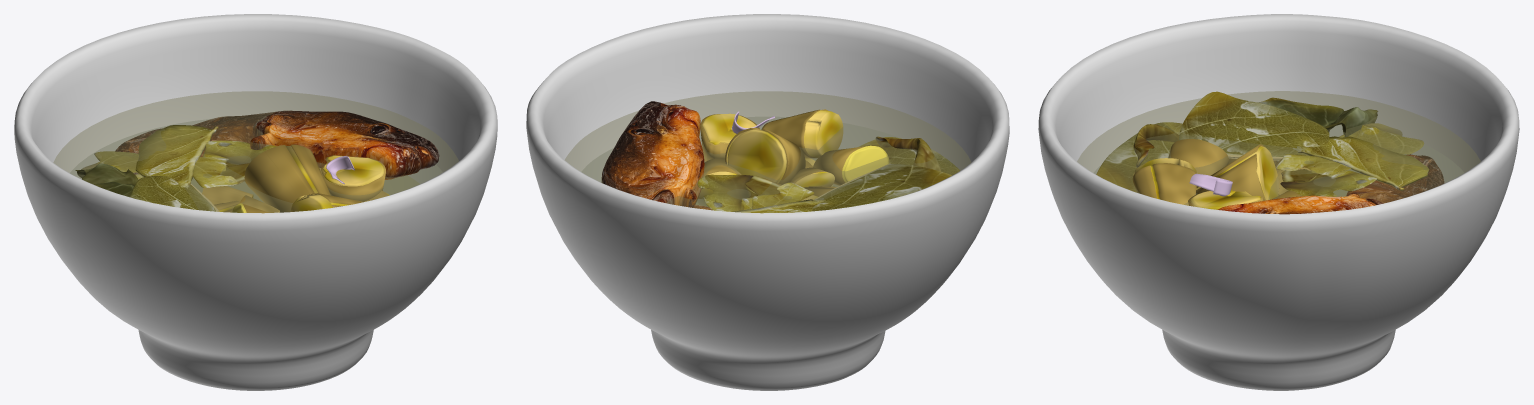
The model's file is Gangan Pisang Suah Jukut Salai.fbx.
3 views of the same model, side by side, from view 1: azimuth 30°, elevation 25°; view 2: azimuth 150°, elevation 25°; view 3: azimuth 270°, elevation 25° (orthographic).
Parts seen in each view (by area): view 1: Mangkok, Kuah 1, Ikan 2, Pisang 1, Daun 1, Pisang 4, Daun 2, Ikan 1, Kuah 2, Daun 5, Daun 4, Daun 11 (+4 smaller); view 2: Mangkok, Kuah 1, Ikan 2, Daun 2, Pisang 1, Pisang 2, Pisang 3, Daun 5, Pisang 4, Kuah 2, Daun 9, Daun 8 (+5 smaller); view 3: Mangkok, Kuah 1, Daun 2, Daun 1, Pisang 2, Pisang 1, Ikan 2, Daun 8, Daun 5, Ikan 1, Pisang 3, Daun 3 (+7 smaller).
Boxes of the visible parts, left/top/right/bottom form: Mangkok: left=14, top=14, right=497, bottom=390; Kuah 1: left=53, top=91, right=458, bottom=212; Ikan 2: left=250, top=110, right=439, bottom=179; Pisang 1: left=244, top=144, right=330, bottom=212; Daun 1: left=135, top=125, right=218, bottom=188; Pisang 4: left=320, top=155, right=385, bottom=201; Daun 2: left=130, top=176, right=219, bottom=211; Ikan 1: left=115, top=110, right=289, bottom=174; Kuah 2: left=70, top=119, right=442, bottom=201; Daun 5: left=202, top=140, right=276, bottom=168; Daun 4: left=187, top=157, right=237, bottom=187; Daun 11: left=75, top=163, right=138, bottom=184; Mangkok: left=526, top=14, right=1009, bottom=390; Kuah 1: left=565, top=91, right=971, bottom=209; Ikan 2: left=601, top=101, right=704, bottom=207; Daun 2: left=811, top=164, right=951, bottom=211; Pisang 1: left=725, top=127, right=805, bottom=184; Pisang 2: left=761, top=109, right=843, bottom=158; Pisang 3: left=813, top=145, right=889, bottom=185; Daun 5: left=697, top=174, right=761, bottom=211; Pisang 4: left=700, top=113, right=759, bottom=161; Kuah 2: left=582, top=117, right=898, bottom=206; Daun 9: left=875, top=136, right=941, bottom=171; Daun 8: left=859, top=137, right=959, bottom=175; Mangkok: left=1038, top=14, right=1519, bottom=390; Kuah 1: left=1077, top=91, right=1480, bottom=205; Daun 2: left=1179, top=91, right=1329, bottom=160; Daun 1: left=1292, top=136, right=1429, bottom=190; Pisang 2: left=1132, top=158, right=1196, bottom=205; Pisang 1: left=1196, top=144, right=1279, bottom=200; Ikan 2: left=1218, top=192, right=1383, bottom=214; Daun 8: left=1096, top=122, right=1182, bottom=192; Daun 5: left=1280, top=170, right=1376, bottom=196; Ikan 1: left=1346, top=154, right=1444, bottom=203; Pisang 3: left=1168, top=139, right=1229, bottom=175; Daun 3: left=1357, top=123, right=1424, bottom=154.
Size of the model in its own units: 206 by 109 by 204.
